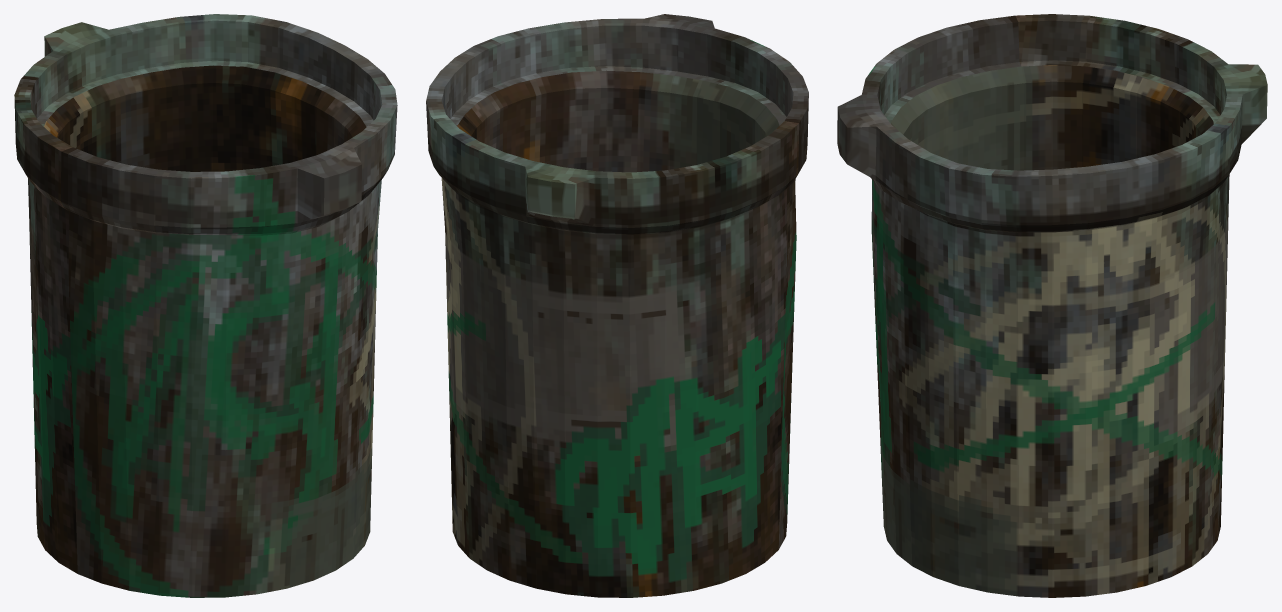
Rendered from SM_trashcan1.fbx.
The picture shows the model from 3 angles, left to right: view 1: azimuth 30°, elevation 25°; view 2: azimuth 150°, elevation 25°; view 3: azimuth 270°, elevation 25°; orthographic projection.
Parts seen in each view (by area): view 1: SM-trashcan3; view 2: SM-trashcan3; view 3: SM-trashcan3.
Boxes of the visible parts, x1,y1,x2,y2 form: SM-trashcan3: (14, 14, 397, 597); SM-trashcan3: (426, 14, 808, 597); SM-trashcan3: (837, 14, 1267, 597).
Size of the model in its own units: 66.37 by 83.52 by 74.79.
